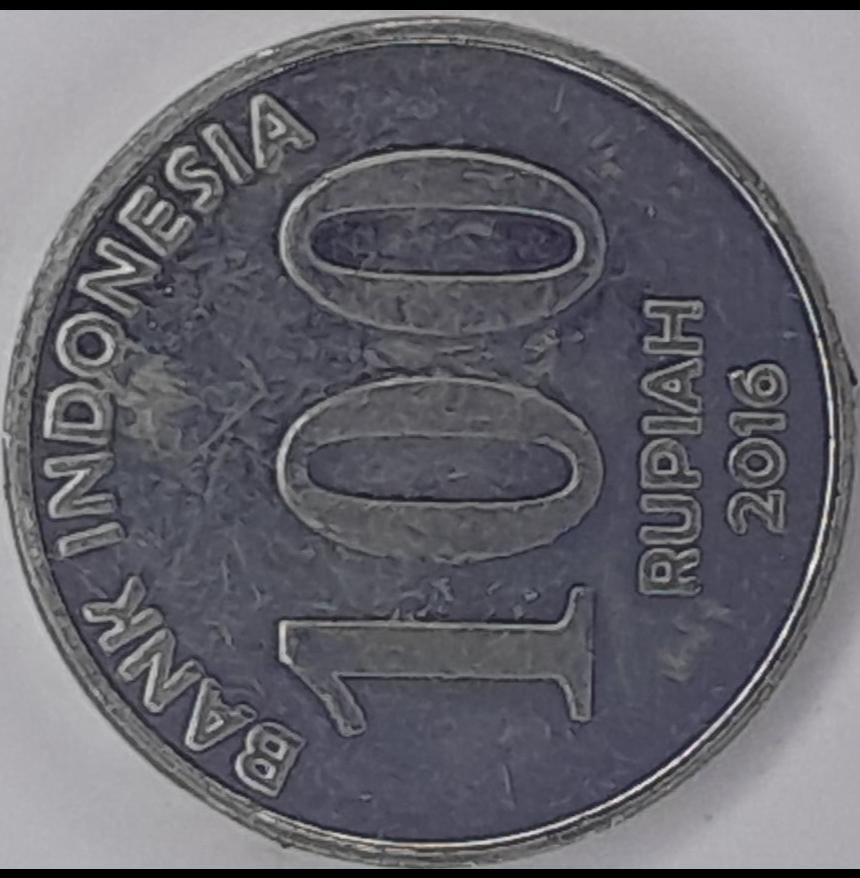coin_100_e2016: (0, 10, 859, 864)
